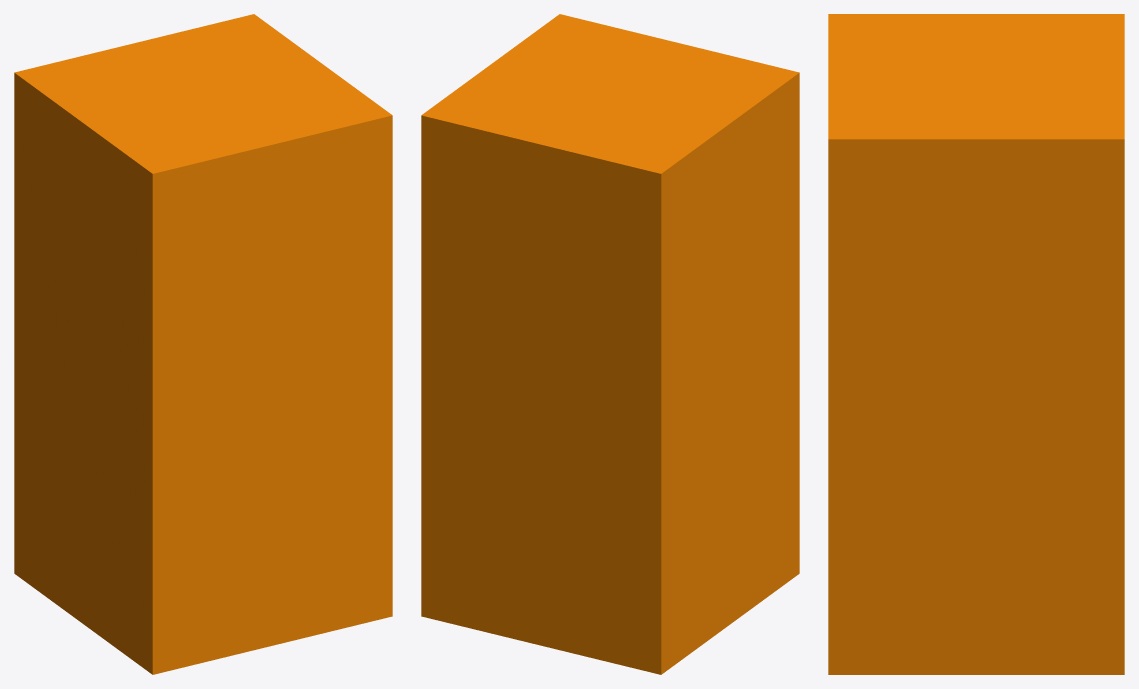
Rendered from YellowThinEdges.fbx.
3 renders of one model, left to right at view 1: azimuth 30°, elevation 25°; view 2: azimuth 150°, elevation 25°; view 3: azimuth 270°, elevation 25°, orthographic. The views are drawn at different scales.
Visible parts, largest first — view 1: 4.BODY.green.024; view 2: 4.BODY.green.024; view 3: 4.BODY.green.024.
Part boxes in pixels (x1,y1,x2,y2): 4.BODY.green.024: (14,14,392,674); 4.BODY.green.024: (421,14,799,674); 4.BODY.green.024: (828,14,1124,674).
Size of the model in its own units: 100 by 201 by 101.
